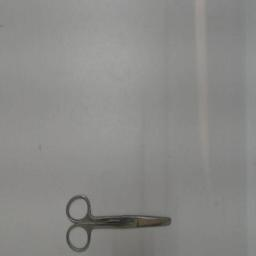Dressing Scissors: (62, 188, 178, 256)
